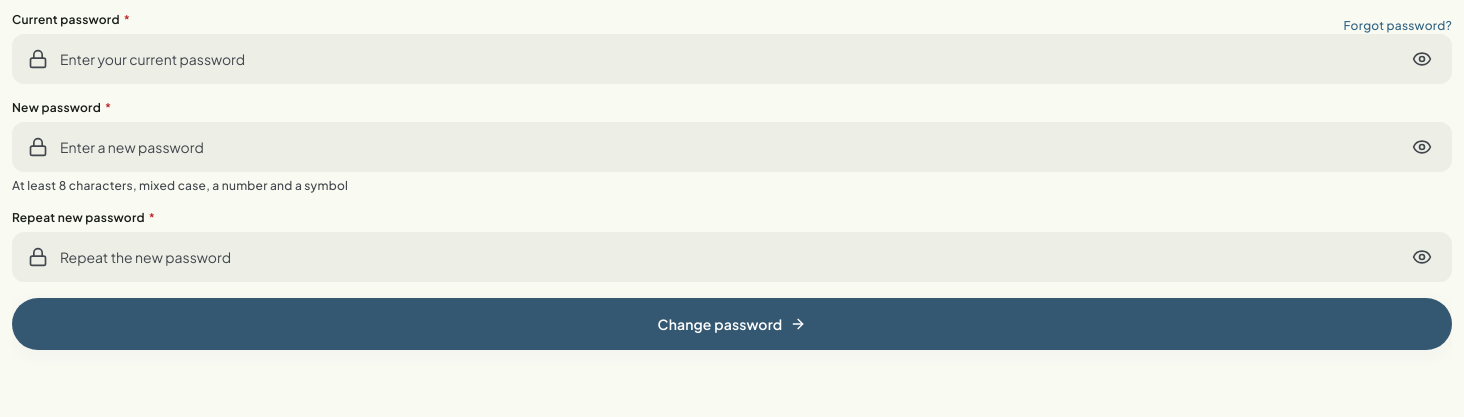
Test: PasswordForm when the backend refuses › shows the refusal against the field, until that field is edited
The image size is (1464, 417).
Step 1. Type "wrongpass" into the password field labelled "Current password" → (732, 59), box x1=12 y1=34 x2=1452 y2=84
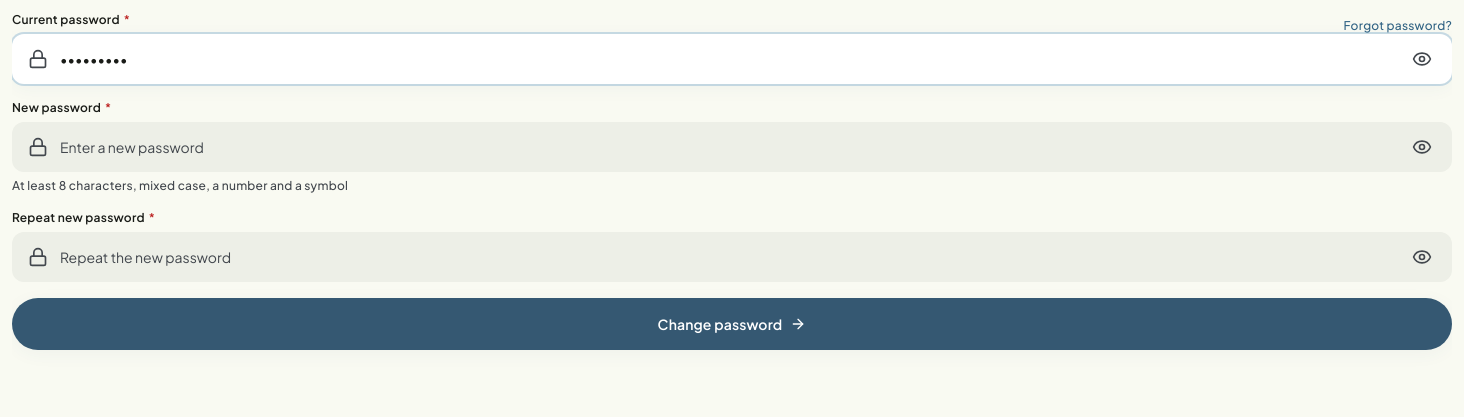
Step 2. Type "Chores12!" into the password field labelled "New password" → (732, 147), box x1=12 y1=122 x2=1452 y2=172
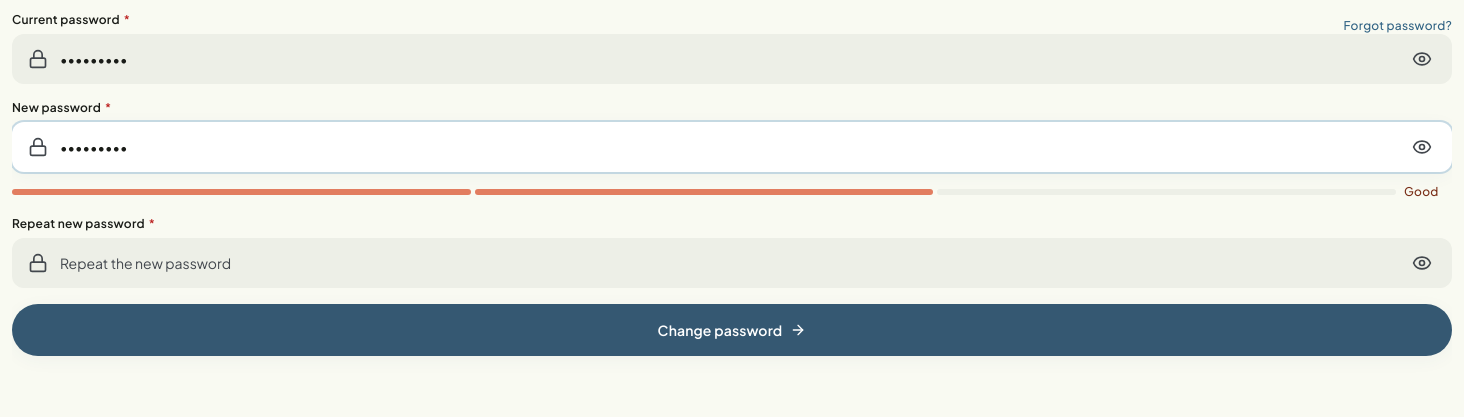
Step 3. Type "Chores12!" into the password field labelled "Repeat new password" → (732, 263), box x1=12 y1=238 x2=1452 y2=288
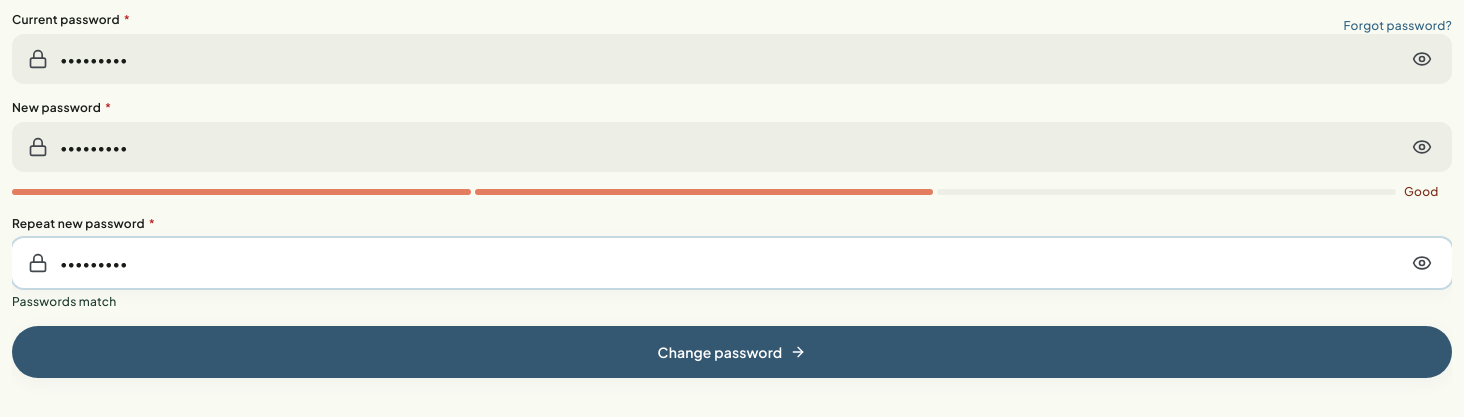
Step 4. Click the button "Change password" → (732, 352), box x1=12 y1=326 x2=1452 y2=378
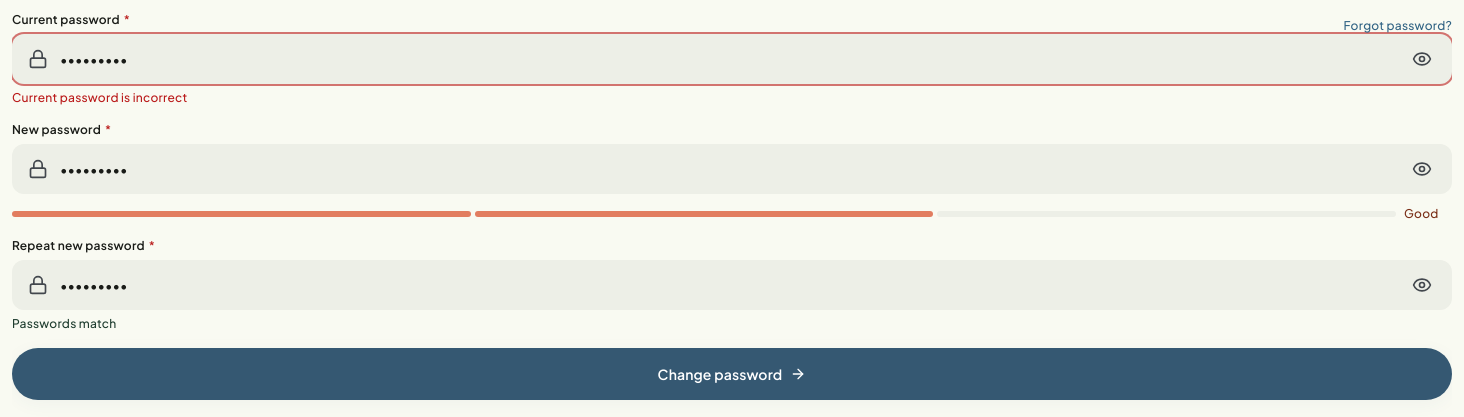
Check: the text "Current password is incorrect" is shown, box x1=12 y1=90 x2=188 y2=105
Step 5. Type "x" into the password field labelled "Current password" → (732, 59), box x1=12 y1=34 x2=1452 y2=84
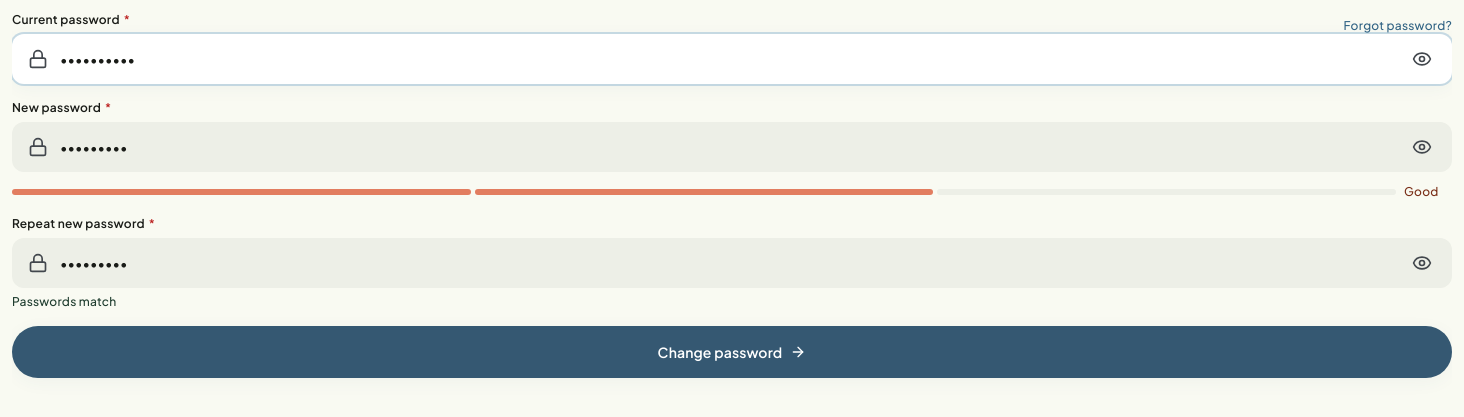
Check: the text "Current password is incorrect" is gone
